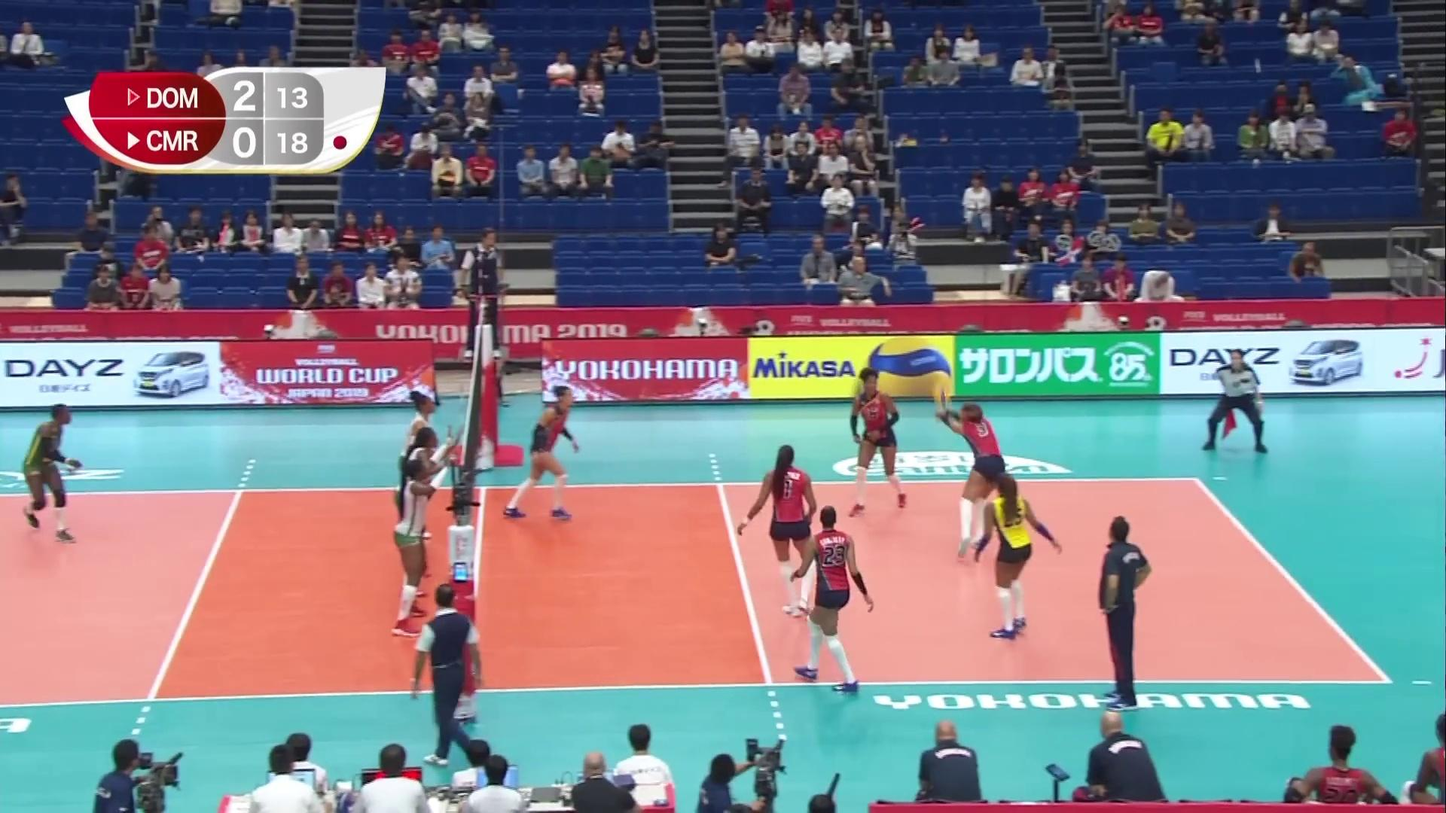player: (793, 504, 874, 687), (391, 424, 463, 600), (977, 477, 1053, 642), (750, 441, 818, 615), (390, 458, 449, 641), (509, 382, 584, 523), (940, 400, 1003, 557), (848, 368, 905, 519), (17, 403, 80, 526), (399, 393, 437, 545)
refree: (421, 583, 483, 770), (1205, 350, 1267, 453), (464, 225, 506, 360)
